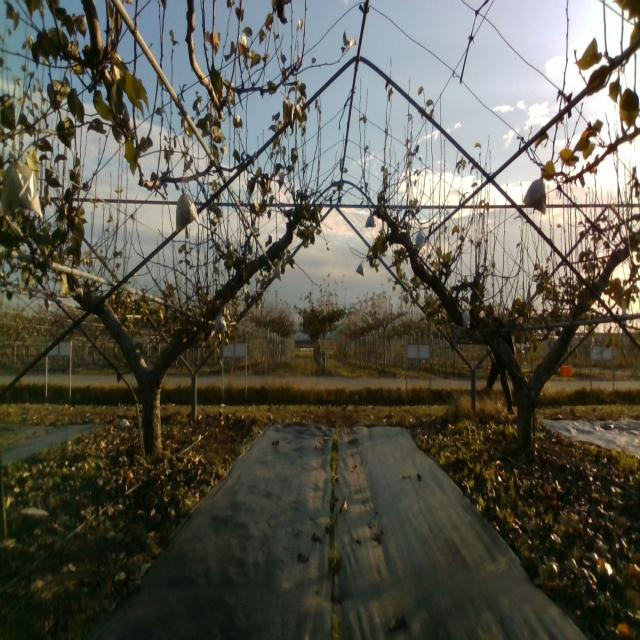pearbags: (0, 148, 43, 223), (176, 186, 200, 232), (524, 174, 548, 216), (213, 314, 228, 332), (365, 212, 377, 229), (415, 230, 425, 250)
